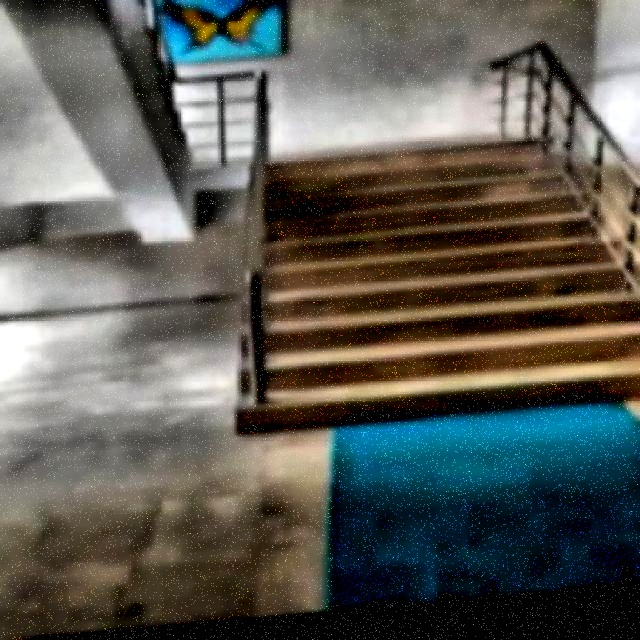stair: (230, 134, 639, 440)
